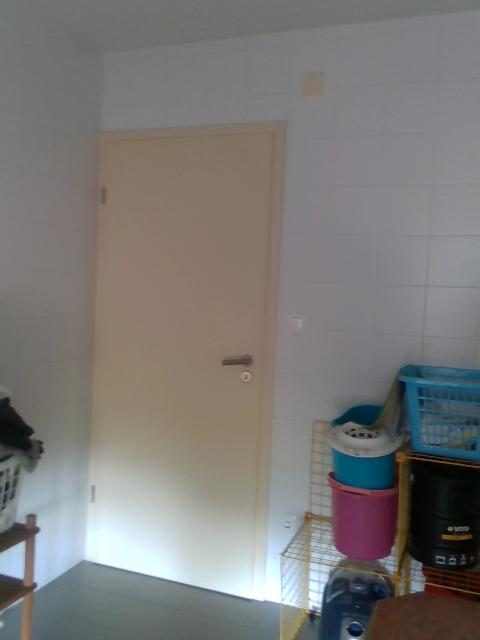door: (92, 140, 272, 595)
